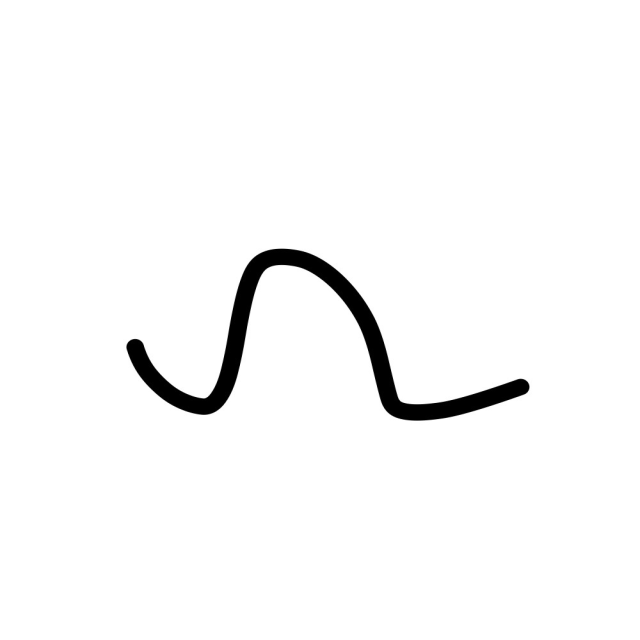ohms: (112, 145, 564, 512)
